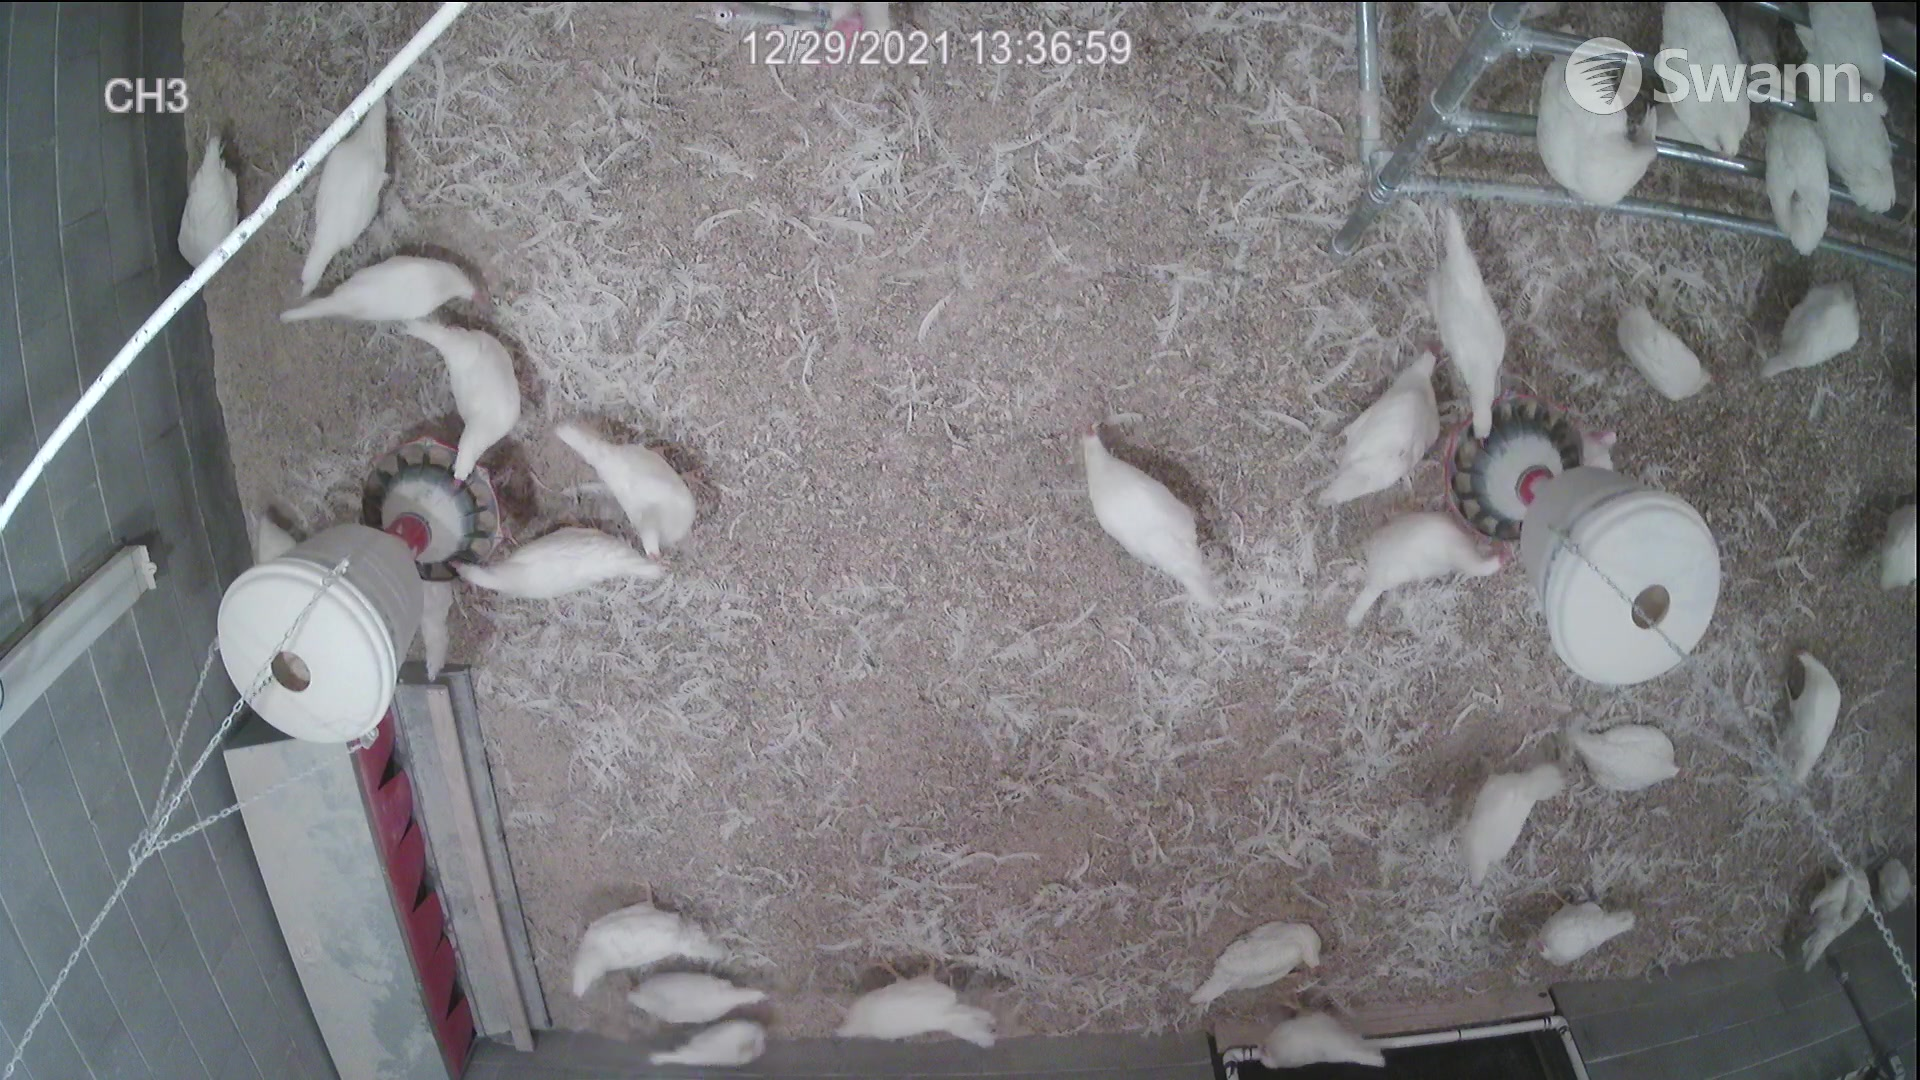Feeding: (1335, 513, 1523, 640), (444, 526, 684, 617), (1429, 215, 1520, 455), (419, 314, 526, 495)
Foraging: (1065, 440, 1225, 607), (1610, 294, 1738, 406), (281, 265, 505, 327), (1778, 258, 1880, 389), (1779, 659, 1846, 800)
Perching: (1520, 54, 1665, 194), (1654, 0, 1759, 166), (1818, 94, 1905, 218), (1742, 109, 1826, 236)
